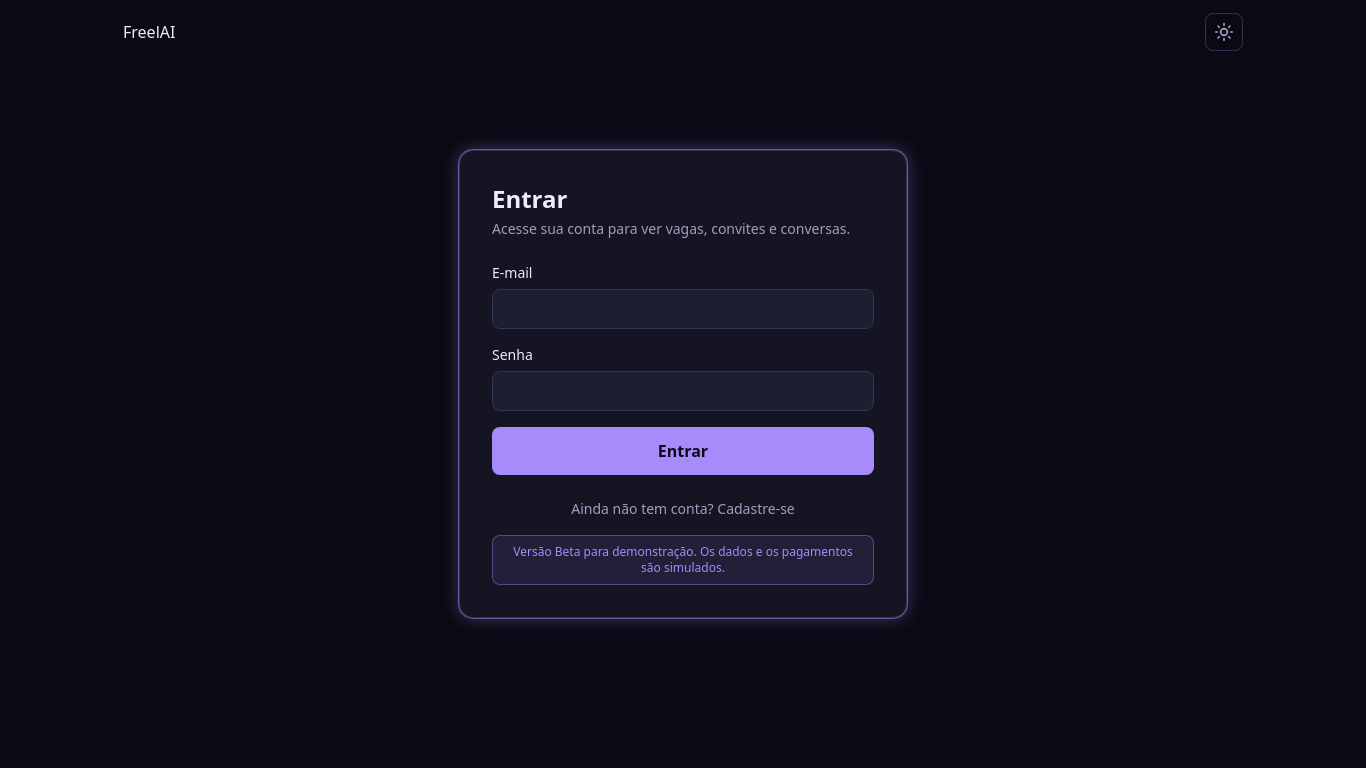
Test: Tela de login › CT-LOG-02: resposta 401 mostra o alerta e permanece na tela
Type "maria@example.com" into the field labelled "E-mail" at (683, 309), box [492,289,874,329]
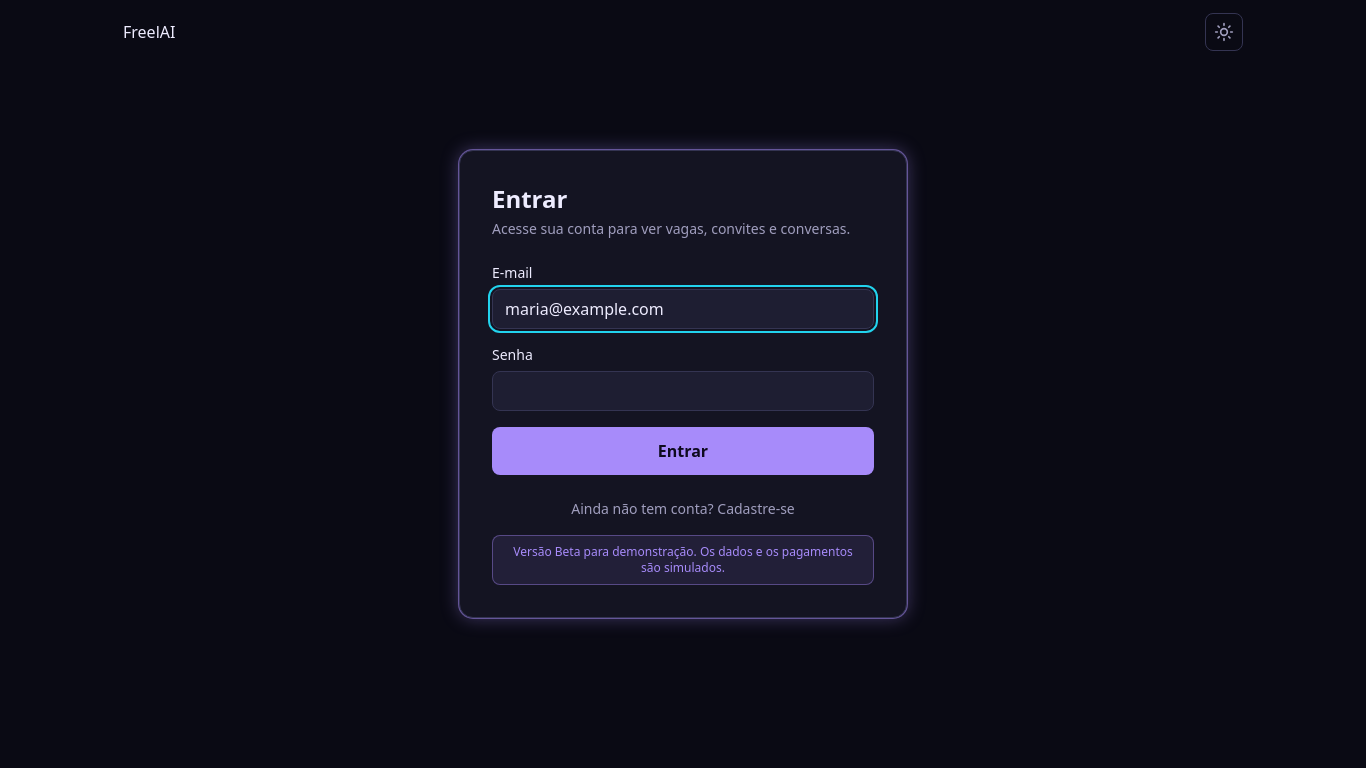
Type "errada-123" into the password field labelled "Senha" at (683, 391), box [492,371,874,411]
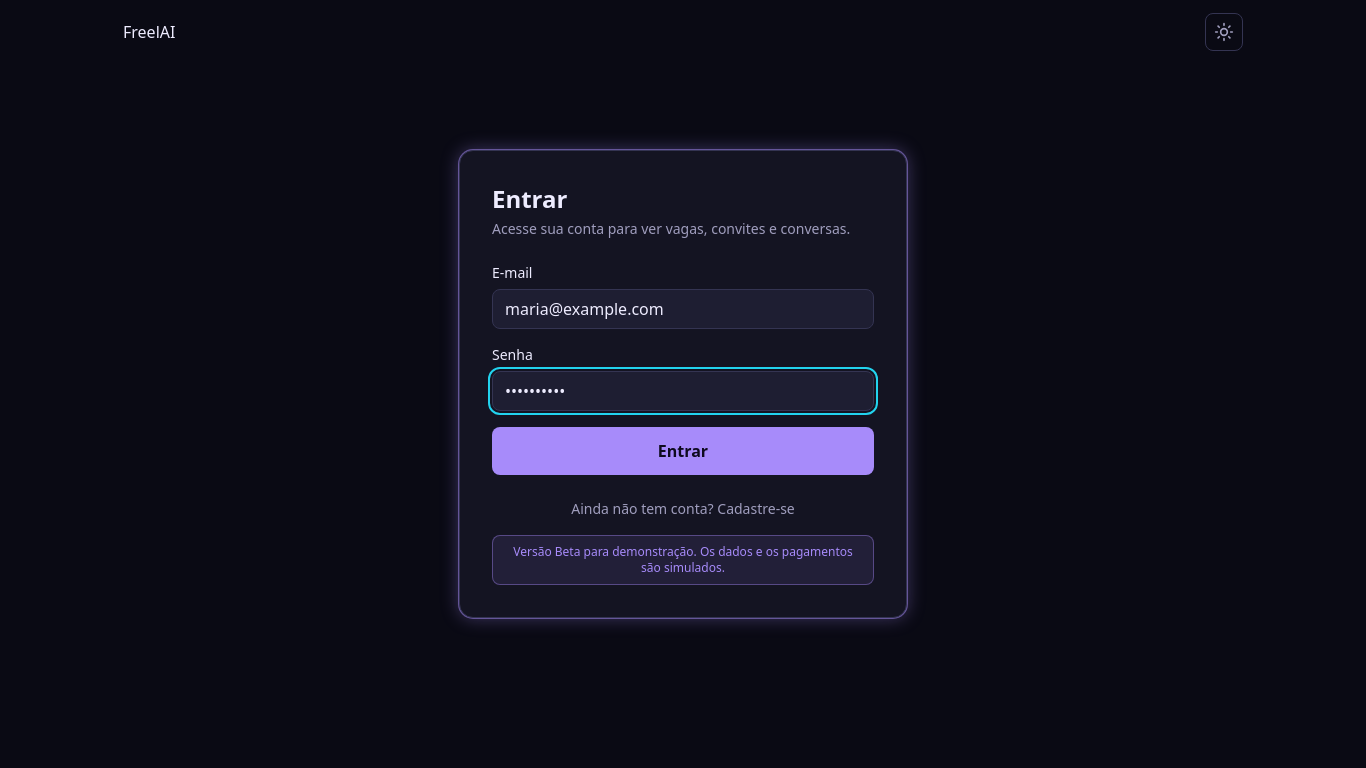
Click the button "Entrar" at (683, 451), box [492,427,874,475]
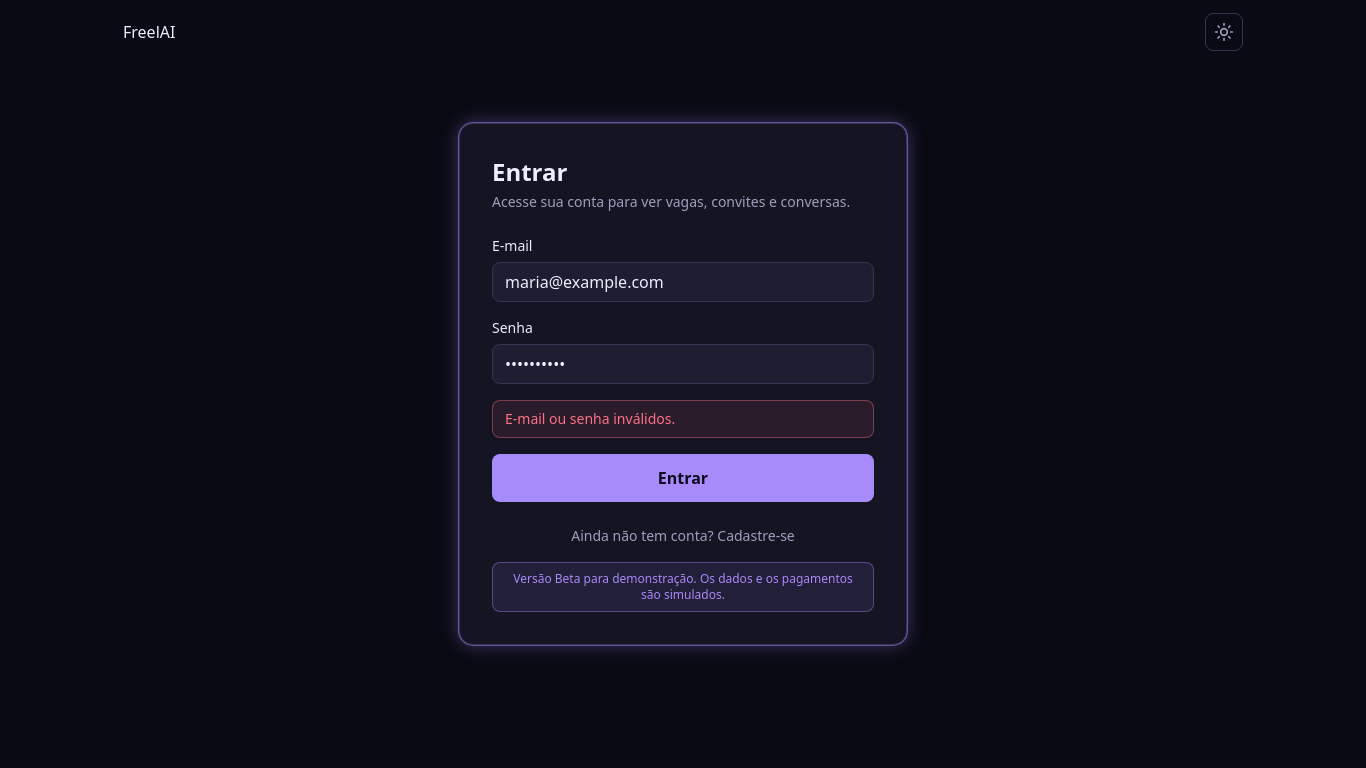
Check: the message reads "E-mail ou senha inválidos.", box [505,409,675,428]
